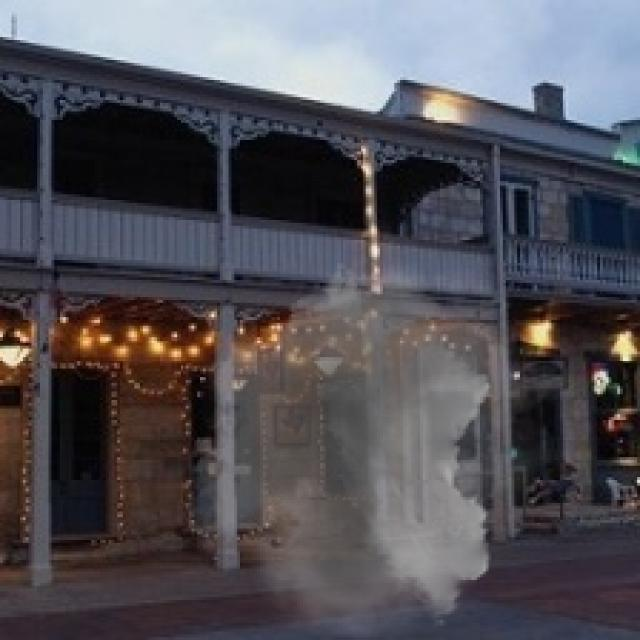smoke: (172, 249, 574, 637)
